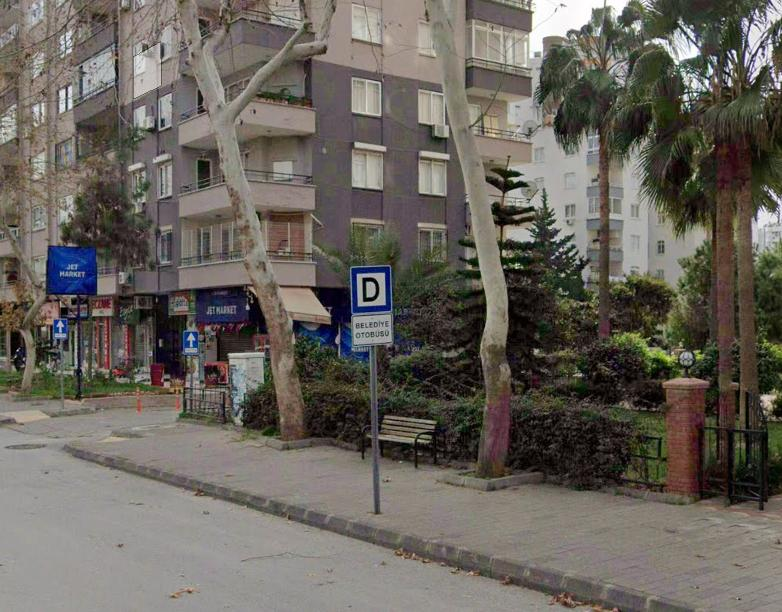forward: (185, 332, 198, 350)
station: (356, 271, 390, 308)
